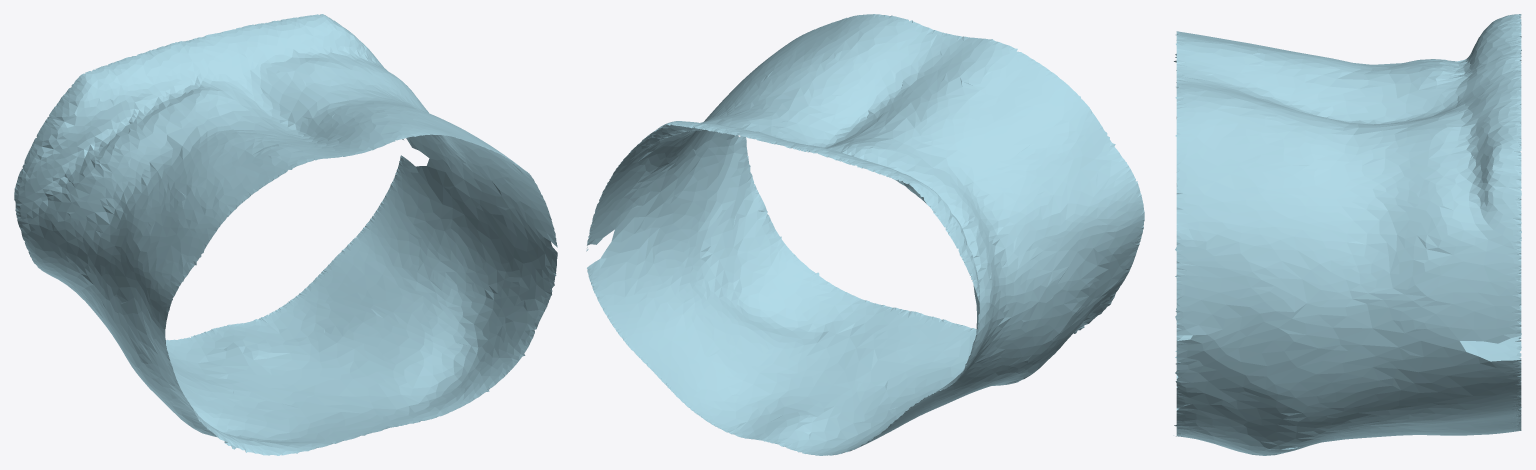
The model's file is skin.obj.
3 renders of one model, left to right at view 1: azimuth 30°, elevation 25°; view 2: azimuth 150°, elevation 25°; view 3: azimuth 270°, elevation 25°, orthographic. The views are drawn at different scales.
Visible parts, largest first — view 1: grp1; view 2: grp1; view 3: grp1.
Part boxes in pixels (x1,y1,x2,y2): grp1: (14, 14, 557, 455); grp1: (586, 14, 1144, 455); grp1: (1173, 14, 1521, 455).
Size of the model in its own units: 283 by 208 by 198.
